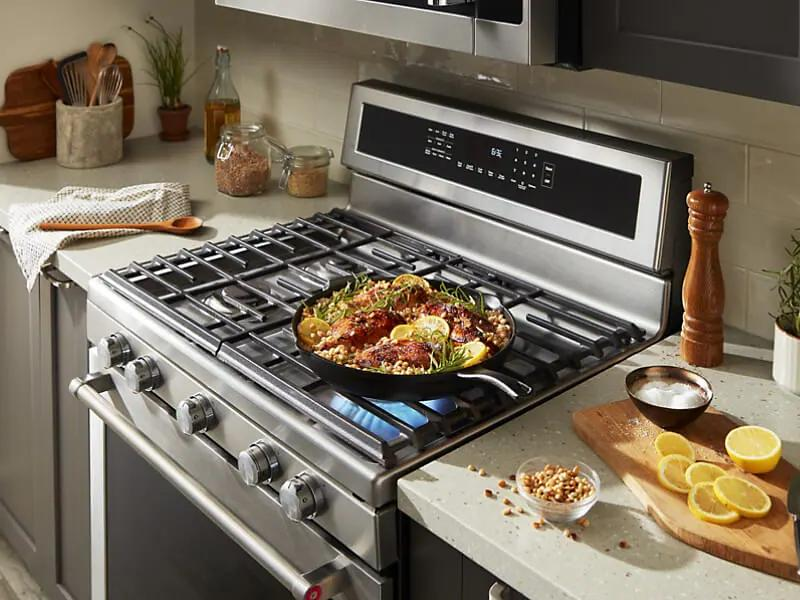controlled_fire: (319, 355, 454, 431)
